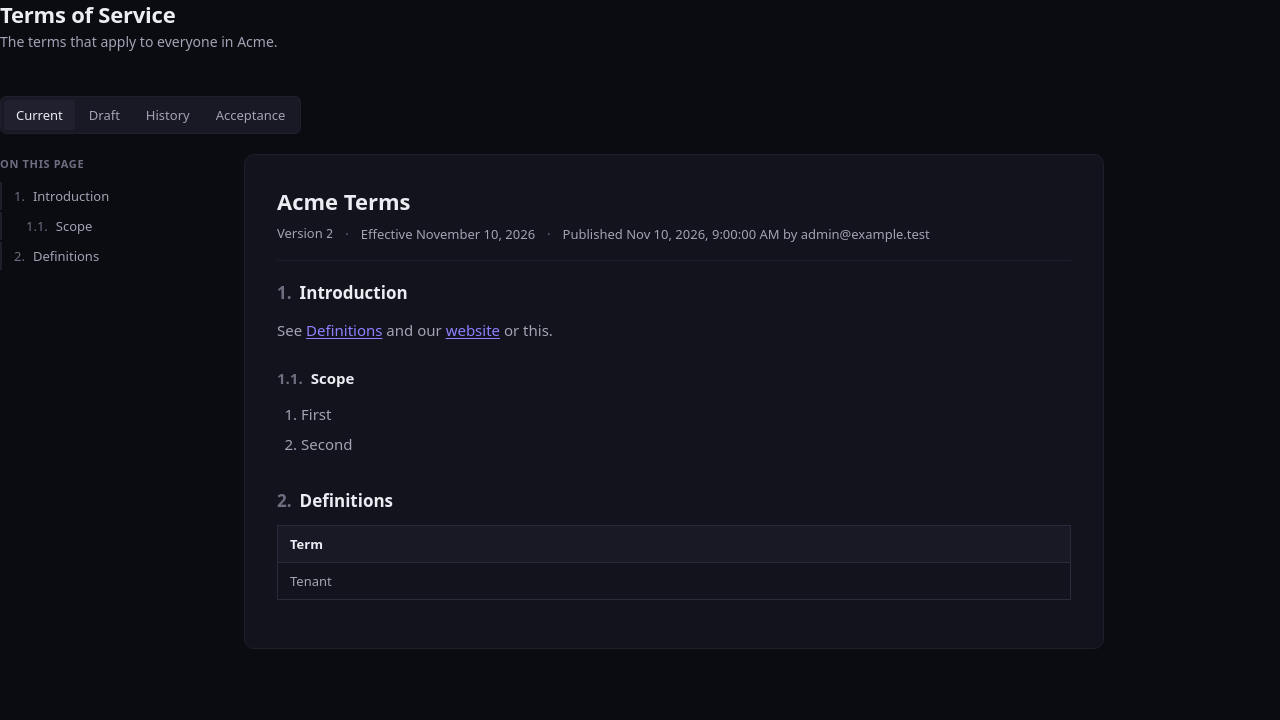
Test: Terms of Service page › administrators start a draft, preview it and publish after confirming
Later steps or results of the test are not shown.
What coordinates should you click on to do the following:
click the tab "Draft"
I would click on:
 (104, 115)
Its box is [77,100,132,130].
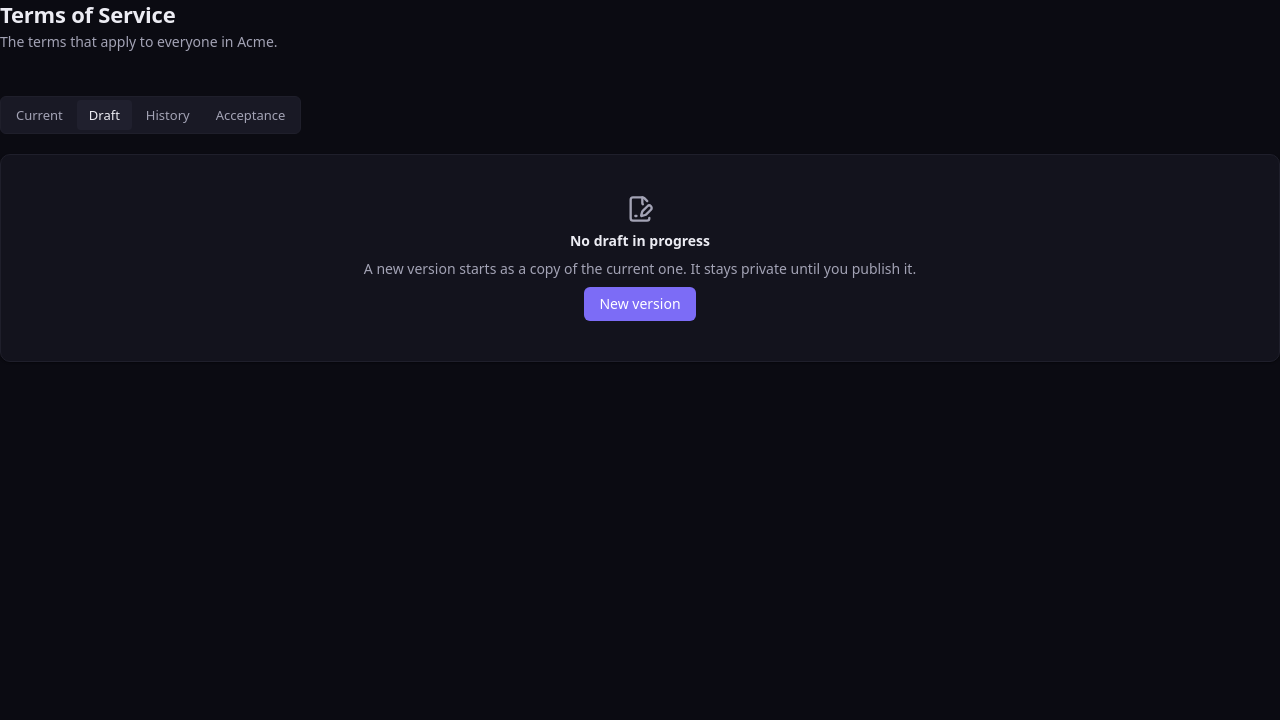
What coordinates should you click on to do the following:
click the button "New version"
I would click on:
 (640, 304)
Its box is [584,287,696,321].
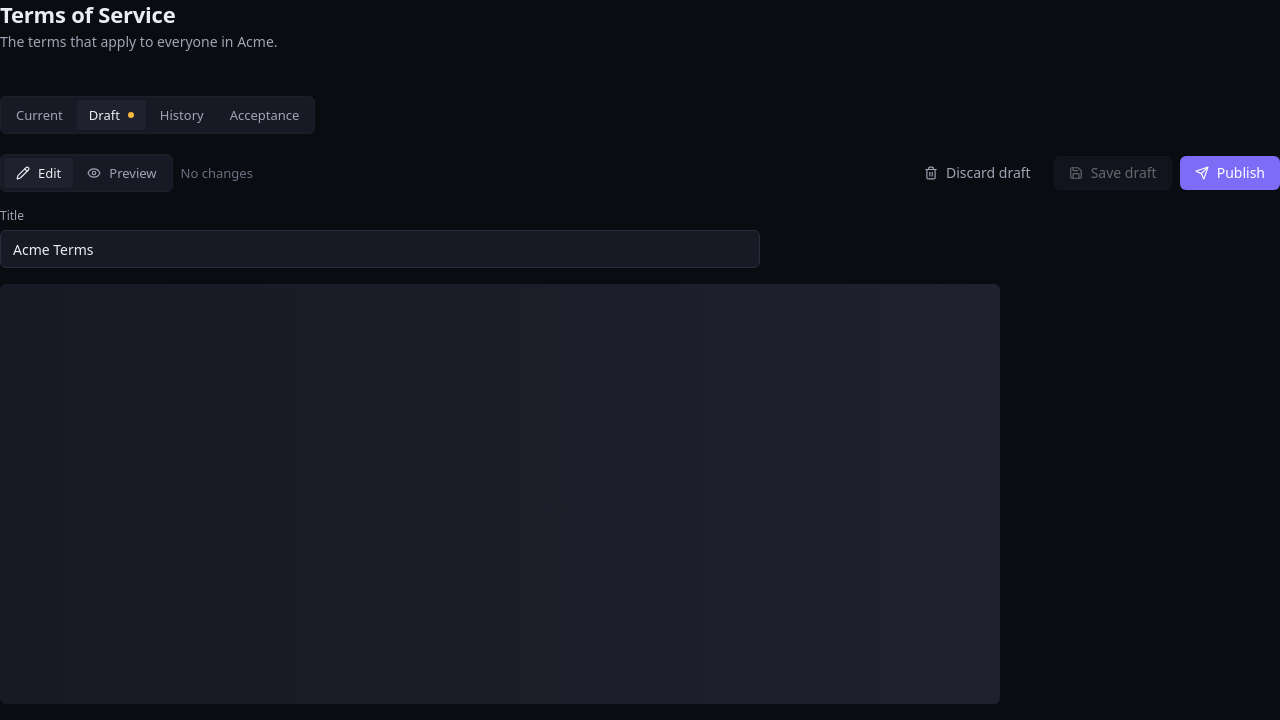
What coordinates should you click on to do the following:
click the tab "Preview"
I would click on:
 (122, 173)
Its box is [75,158,169,188].
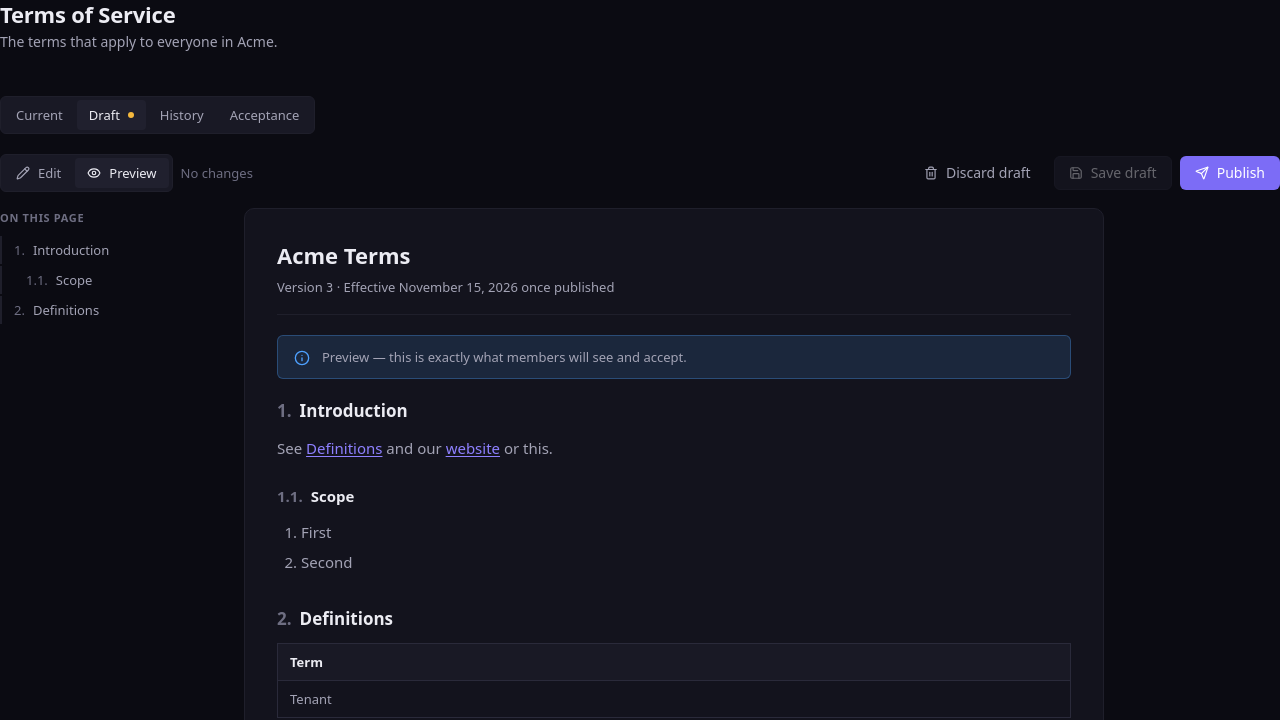
Expected: the text "Preview — this is exactly what members will see and accept." is shown, [322,348,687,366]
What coordinates should you click on to do the following:
click the button "Publish"
I would click on:
 (1230, 173)
Its box is [1180,156,1279,190].
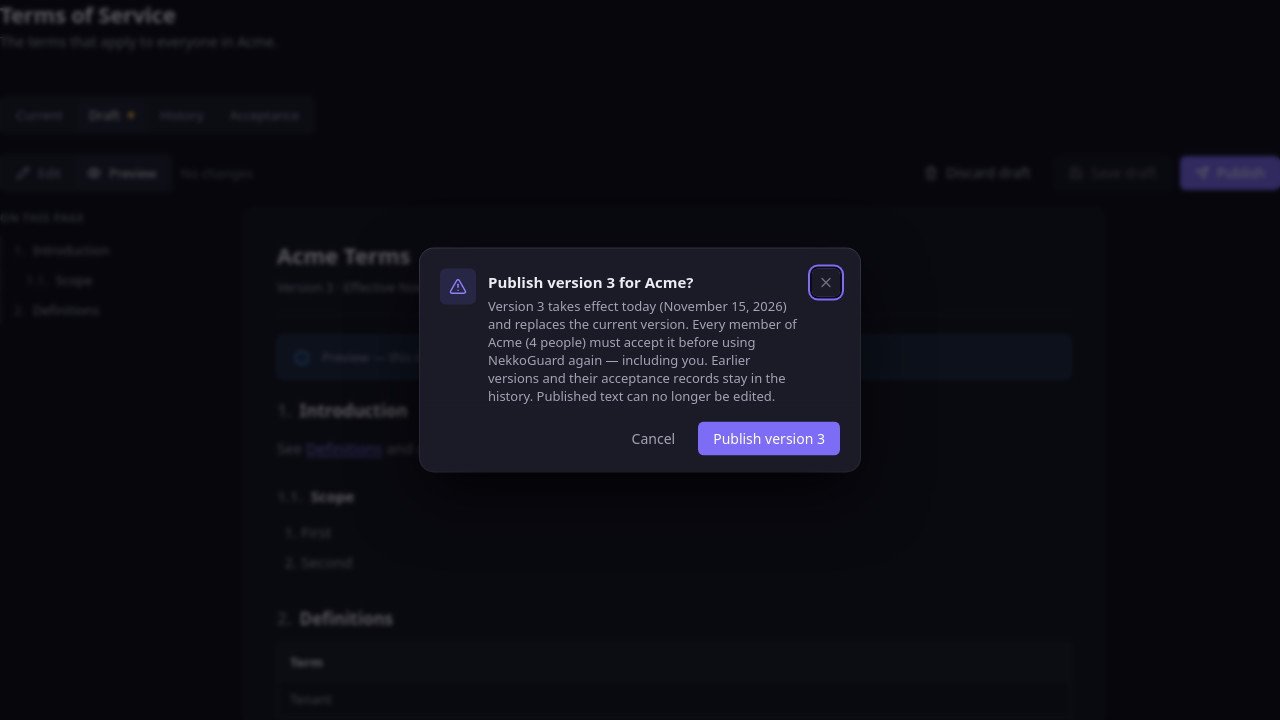
Expected: the text "must accept it before using NekkoGuard again" is shown, [488,332,786,404]
